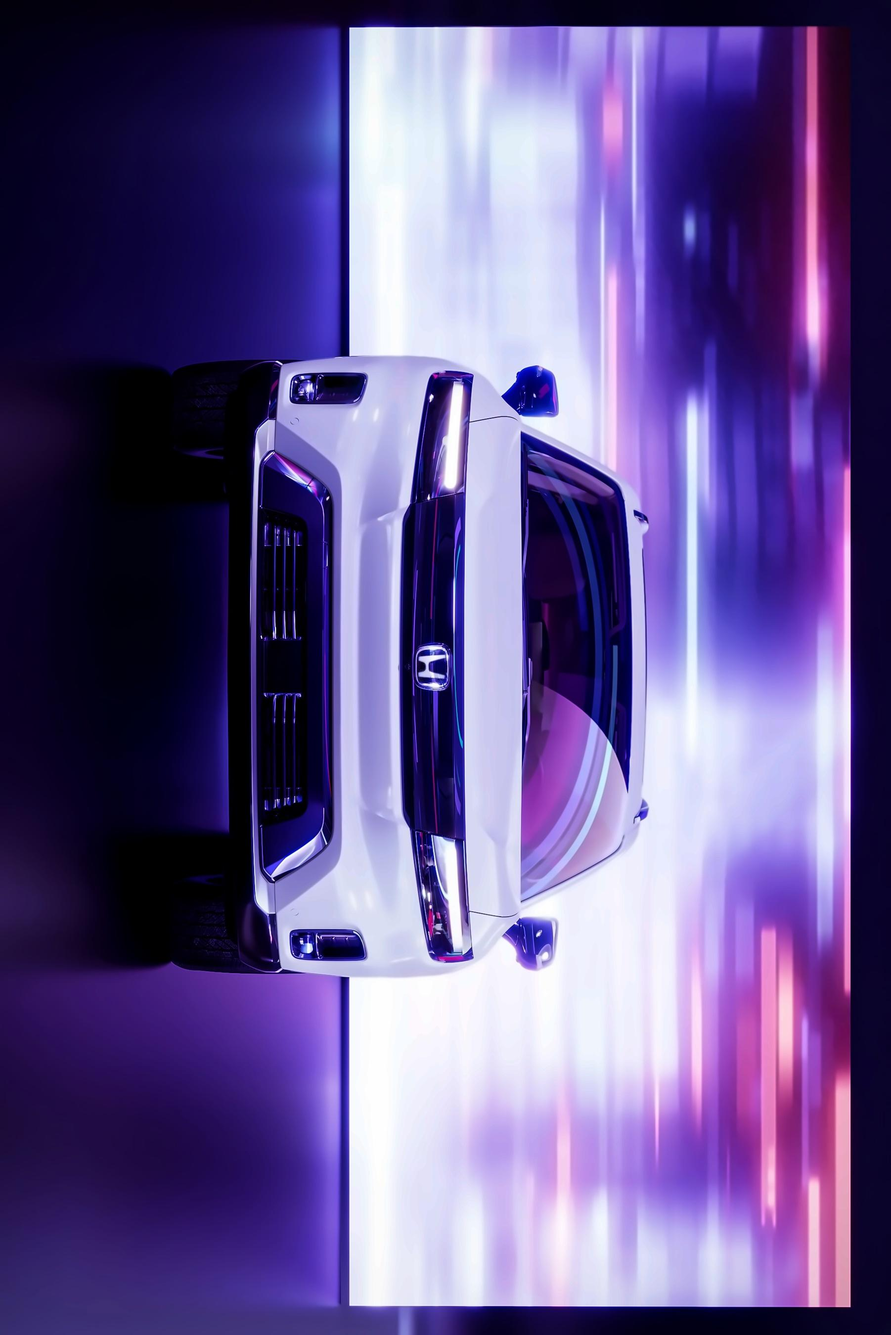Car hood: (459, 412, 530, 923)
Front bumper: (220, 345, 435, 984)
Headlight - -L-: (408, 818, 476, 968)
Headlight - -R-: (413, 364, 474, 511)
Side mirror - -L-: (495, 905, 567, 977)
Side mirror - -R-: (496, 355, 570, 426)
